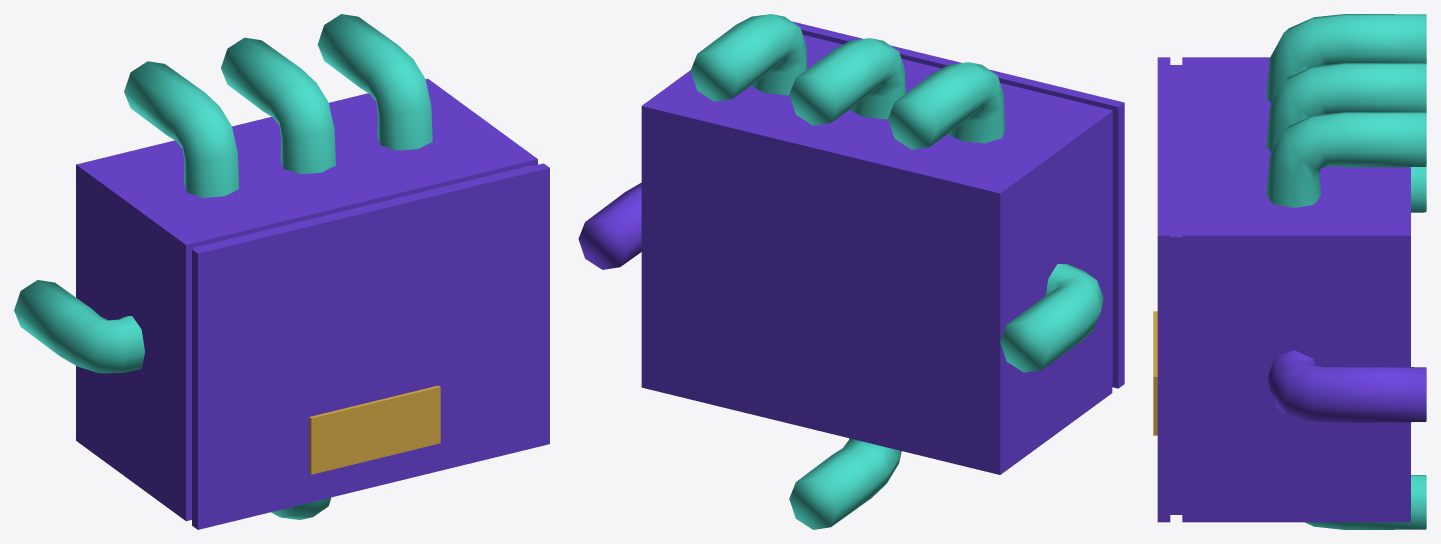
File: wall_box_2.fbx
The picture shows the model from 3 angles, left to right: view 1: azimuth 30°, elevation 25°; view 2: azimuth 150°, elevation 25°; view 3: azimuth 270°, elevation 25°; orthographic projection. The views are drawn at different scales.
Parts seen in each view (by area): view 1: Plane; view 2: Plane; view 3: Plane.
Boxes of the visible parts, x1,y1,x2,y2 form: Plane: (14, 14, 549, 529); Plane: (578, 14, 1124, 529); Plane: (1153, 14, 1426, 529).
Size of the model in its own units: 37.71 by 34.87 by 18.64.
